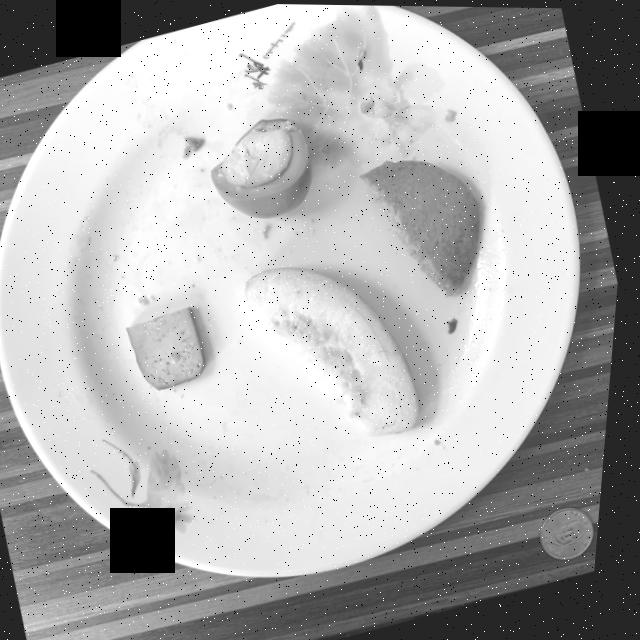Spam: (363, 158, 483, 295)
coin: (549, 505, 603, 558)
firm tofu: (133, 306, 210, 389)
guava -sliced-: (249, 266, 426, 434)
soy egg: (213, 116, 315, 217)
